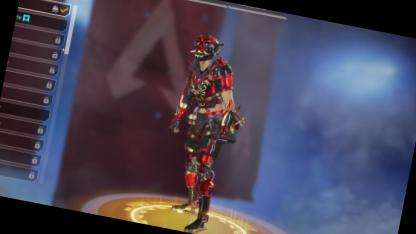Target: (157, 30, 258, 200)
